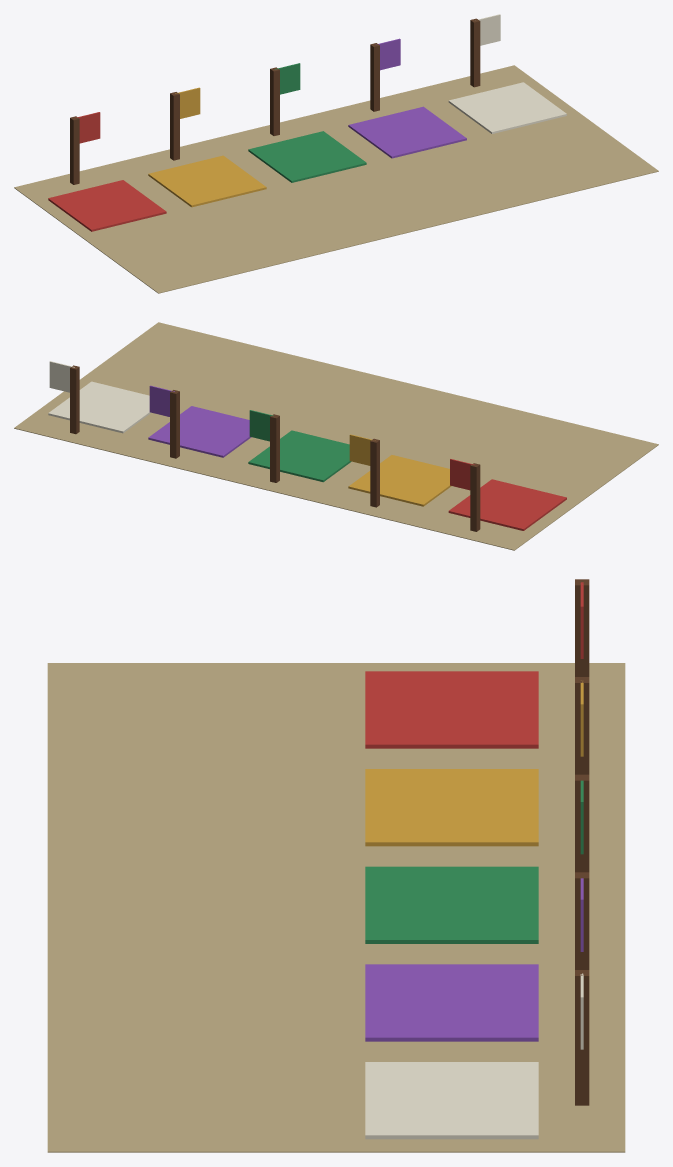
File: crown_road_fivedisciplines.glb
3 views of the same model, one above another, from view 1: azimuth 30°, elevation 25°; view 2: azimuth 150°, elevation 25°; view 3: azimuth 270°, elevation 25° (orthographic). The views are drawn at different scales.
Visible parts, largest first — view 1: crown_road_fivedisciplines; view 2: crown_road_fivedisciplines; view 3: crown_road_fivedisciplines.
Part boxes in pixels (bbox=[...]): crown_road_fivedisciplines: bbox=[14, 14, 658, 293]; crown_road_fivedisciplines: bbox=[14, 322, 658, 550]; crown_road_fivedisciplines: bbox=[47, 579, 625, 1152].
Size of the model in its own units: 80 by 10 by 40.
